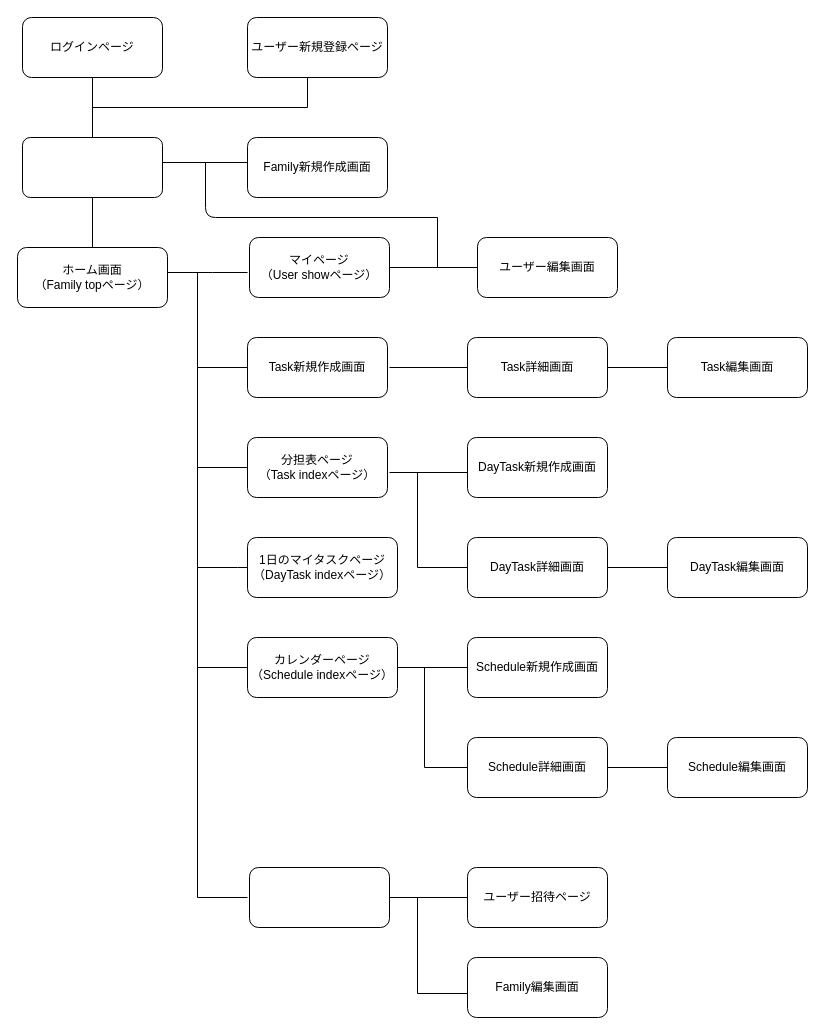
This 825x1035 diagram has some shape labels left out. The box of each missing label's shape, as (x1, y1, x2, y2) in pixels:
Family詳細: (248, 866, 390, 928)
マイページ (User showページ): (22, 136, 162, 198)
